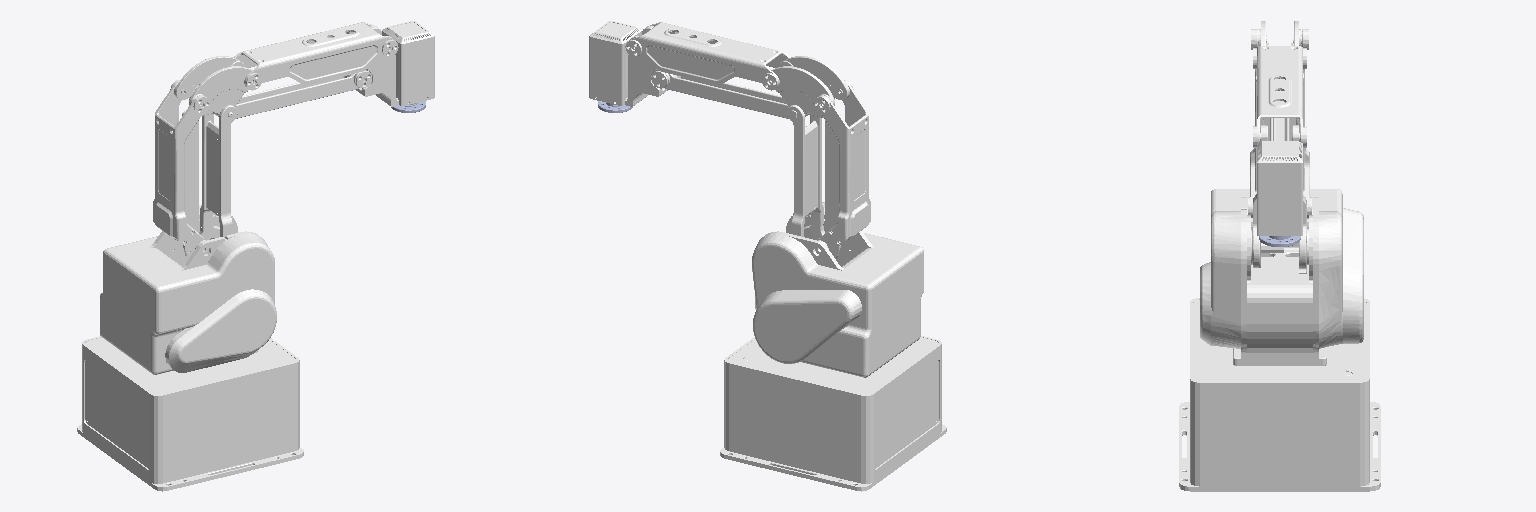
robot.urdf — mg400:
<?xml version="1.0" encoding="utf-8"?>
<!-- This URDF was automatically created by SolidWorks to URDF Exporter! Originally created by [author] ([email redacted]) 
     Commit Version: 1.6.0-1-g15f4949  Build Version: 1.6.7594.29634
     For more information, please see http://wiki.ros.org/sw_urdf_exporter -->
<robot name="mg400">
    <link name="dummy_link" />
    <joint name="virtual_joint" type="fixed">
        <parent link="dummy_link"/>
        <child link="base_link"/>
    </joint>
    <link name="base_link">
        <inertial>
            <origin xyz="0.000600637001378877 -2.53487071139652E-07 0.0560927888040551" rpy="0 0 0"/>
            <mass value="3.62164811695094"/>
            <inertia
                    ixx="0.0126582175296405"
                    ixy="6.66832041405638E-08"
                    ixz="-3.52548281362717E-06"
                    iyy="0.0145891535260188"
                    iyz="5.1590165746046E-08"
                    izz="0.0195045116656827"/>
        </inertial>
        <visual>
            <origin xyz="0 0 0" rpy="0 0 0"/>
            <geometry>
                <mesh filename="package://mg400_description/meshes/base_link.dae"/>
            </geometry>
            <material name="">
                <color rgba="1 1 1 1"/>
            </material>
        </visual>
        <collision>
            <origin xyz="0 0 0" rpy="0 0 0"/>
            <geometry>
                <mesh filename="package://mg400_description/meshes/base_link.stl"/>
            </geometry>
        </collision>
    </link>
    <link name="j1_link">
        <inertial>
            <origin xyz="-0.00462092869681096 -6.88107981893256E-05 0.0569919358466287" rpy="0 0 0"/>
            <mass value="1.77056222753585"/>
            <inertia ixx="0.00605885293079559"
                     ixy="0.000156081820030751"
                     ixz="-0.000217856548509477"
                     iyy="0.00579381982248107"
                     iyz="6.2087689804721E-05"
                     izz="0.00741058257250928"/>
        </inertial>
        <visual>
            <origin xyz="0 0 0" rpy="0 0 0"/>
            <geometry>
                <mesh filename="package://mg400_description/meshes/j1_link.dae"/>
            </geometry>
            <material name="">
                <color rgba="1 1 1 1"/>
            </material>
        </visual>
        <collision>
            <origin xyz="0 0 0" rpy="0 0 0"/>
            <geometry>
                <mesh filename="package://mg400_description/meshes/j1_link.stl"/>
            </geometry>
        </collision>
    </link>
    <joint name="j1" type="revolute">
        <origin xyz="-0.005 0 0.123" rpy="0 0 0"/>
        <parent link="base_link"/>
        <child link="j1_link"/>
        <axis xyz="0 0 -1"/>
        <limit lower="-2.82" upper="2.82" effort="0" velocity="0"/>
    </joint>
    <link name="j2_link">
        <inertial>
            <origin xyz="0.0227944229654841 -0.0999789630956084 0.0409414582719255" rpy="0 0 0"/>
            <mass value="0.189535455844457"/>
            <inertia
                    ixx="0.000564904704787449"
                    ixy="8.45486795960616E-06"
                    ixz="-9.84897721286065E-09"
                    iyy="9.2970645253608E-05"
                    iyz="-1.36204324365658E-06"
                    izz="0.000531796355967479"/>
        </inertial>
        <visual>
            <origin xyz="0 0 0" rpy="0 0 0"/>
            <geometry>
                <mesh filename="package://mg400_description/meshes/j2_link.dae"/>
            </geometry>
            <material name="">
                <color rgba="1 1 1 1"/>
            </material>
        </visual>
        <collision>
            <origin xyz="0 0 0" rpy="0 0 0"/>
            <geometry>
                <mesh filename="package://mg400_description/meshes/j2_link.stl"/>
            </geometry>
        </collision>
    </link>
    <joint name="j2" type="revolute">
        <origin xyz="0.0435 0.040725 0.105" rpy="-1.5708 0 -3.1416"/>
        <parent link="j1_link"/>
        <child link="j2_link"/>
        <axis xyz="0 0 -1"/>
        <limit lower="-0.52" upper="1.57" effort="0" velocity="0"/>
    </joint>
    <link name="j3_link">
        <inertial>
            <origin xyz="0.101033998831055 -0.0203219799943335 0.00905110365810635" rpy="0 0 0"/>
            <mass value="0.0828783417879024"/>
            <inertia
                    ixx="2.258153038634E-05"
                    ixy="-3.46025738805897E-06"
                    ixz="3.7677050997279E-07"
                    iyy="0.000306112116552643"
                    iyz="2.12784735092028E-08"
                    izz="0.000296281360036385"/>
        </inertial>
        <visual>
            <origin xyz="0 0 0" rpy="0 0 0"/>
            <geometry>
                <mesh filename="package://mg400_description/meshes/j3_link.dae"/>
            </geometry>
            <material name="">
                <color rgba="1 1 1 1"/>
            </material>
        </visual>
        <collision>
            <origin xyz="0 0 0" rpy="0 0 0"/>
            <geometry>
                <mesh filename="package://mg400_description/meshes/j3_link.stl"/>
            </geometry>
        </collision>
    </link>
    <joint name="j3" type="revolute">
        <origin xyz="0 -0.175 0.049725" rpy="3.1416 0 3.1416"/>
        <parent link="j2_link"/>
        <child link="j3_link"/>
        <axis xyz="0 0 1"/>
        <limit lower="0" upper="1.57" effort="0" velocity="0"/>
    </joint>
    <link name="j4_link">
        <inertial>
            <origin xyz="0.0263385658036461 0.0378462041054955 3.34691901254465E-05" rpy="0 0 0"/>
            <mass value="0.159425645379101"/>
            <inertia
                    ixx="9.77075618894739E-05"
                    ixy="-8.32899807185037E-06"
                    ixz="1.42080021741658E-07"
                    iyy="5.49164689676407E-05"
                    iyz="2.90625684865252E-08"
                    izz="0.000104095192946821"/>
        </inertial>
        <visual>
            <origin xyz="0 0 0" rpy="0 0 0"/>
            <geometry>
                <mesh filename="package://mg400_description/meshes/j4_link.dae"/>
            </geometry>
            <material name="">
                <color rgba="1 1 1 1"/>
            </material>
        </visual>
        <collision>
            <origin xyz="0 0 0" rpy="0 0 0"/>
            <geometry>
                <mesh filename="package://mg400_description/meshes/j4_link.stl"/>
            </geometry>
        </collision>
    </link>
    <joint name="j4" type="revolute">
        <origin xyz="0.20393 -0.034472 0.009" rpy="0 0 -1.1941E-05"/>
        <parent link="j3_link"/>
        <child link="j4_link"/>
        <axis xyz="0 0 1"/>
        <limit lower="-3.14" upper="3.14" effort="0" velocity="0"/>
    </joint>
    <link name="j5_link">
        <inertial>
            <origin xyz="0.00027594614632892 -5.04397398116963E-05 -0.0047225962827615" rpy="0 0 0"/>
            <mass value="0.00735491831748959"/>
            <inertia
                    ixx="6.88523373329536E-07"
                    ixy="-2.49678777123486E-09"
                    ixz="1.03779080864319E-08"
                    iyy="6.75741408649246E-07"
                    iyz="-1.81976971744217E-09"
                    izz="1.12825777521716E-06"/>
        </inertial>
        <visual>
            <origin xyz="0 0 0" rpy="0 0 0"/>
            <geometry>
                <mesh filename="package://mg400_description/meshes/j5_link.dae"/>
            </geometry>
            <material name="">
                <color rgba="0.792156862745098 0.819607843137255 0.933333333333333 1"/>
            </material>
        </visual>
        <collision>
            <origin xyz="0 0 0" rpy="0 0 0"/>
            <geometry>
                <mesh filename="package://mg400_description/meshes/j5_link.stl"/>
            </geometry>
        </collision>
    </link>
    <joint name="J4" type="revolute">
        <origin xyz="0.037075 0.088472 0" rpy="-1.5708 0 0"/>
        <parent link="j4_link"/>
        <child link="j5_link"/>
        <axis xyz="0 0 -1"/>
        <limit lower="-3" upper="3" effort="0" velocity="0"/>
    </joint>
</robot>

--- Render facts (derived) ---
Views: 3 orthographic renders of the robot side by side, from view 1: azimuth 30°, elevation 25°; view 2: azimuth 150°, elevation 25°; view 3: azimuth 270°, elevation 25°.
Model mg400 with 7 links and 6 joints (5 revolute, 1 fixed), rooted at dummy_link, posed all joints at 0.
Visible links, largest first — view 1: base_link, j1_link, j2_link, j3_link, j4_link; view 2: base_link, j1_link, j2_link, j3_link, j4_link; view 3: base_link, j1_link, j4_link, j3_link, j2_link.
Boxes of the visible links, x1,y1,x2,y2 form: base_link: (77, 336, 303, 491); j1_link: (100, 204, 276, 374); j2_link: (153, 56, 254, 254); j3_link: (182, 22, 398, 118); j4_link: (354, 21, 434, 106); base_link: (720, 336, 946, 491); j1_link: (752, 202, 923, 377); j2_link: (769, 56, 870, 254); j3_link: (625, 22, 840, 118); j4_link: (589, 21, 669, 106); base_link: (1179, 298, 1380, 491); j1_link: (1200, 189, 1363, 365); j4_link: (1257, 125, 1302, 235); j3_link: (1253, 46, 1306, 147); j2_link: (1248, 21, 1311, 273).
Size in the robot's own frame: 0.3965 by 0.19 by 0.458 metres.
Meshes: 6 distinct files referenced, 6 mesh visuals loaded (6 Collada DAE).